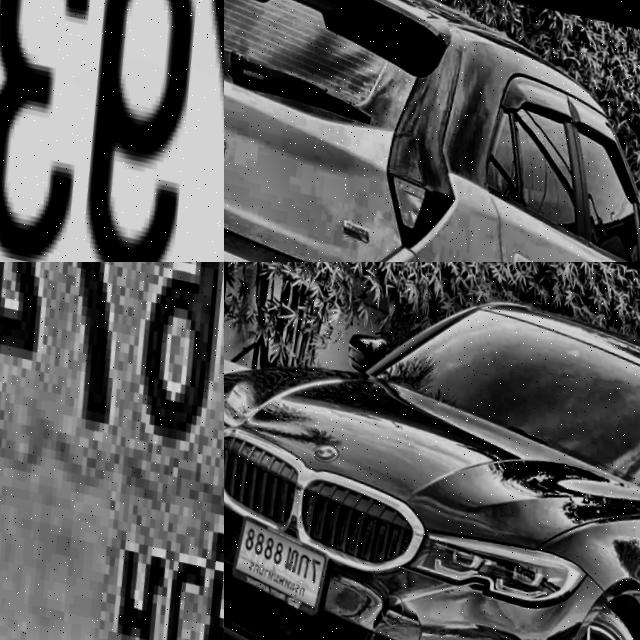license-plate: (0, 262, 224, 640), (0, 0, 224, 262), (224, 511, 328, 617)
